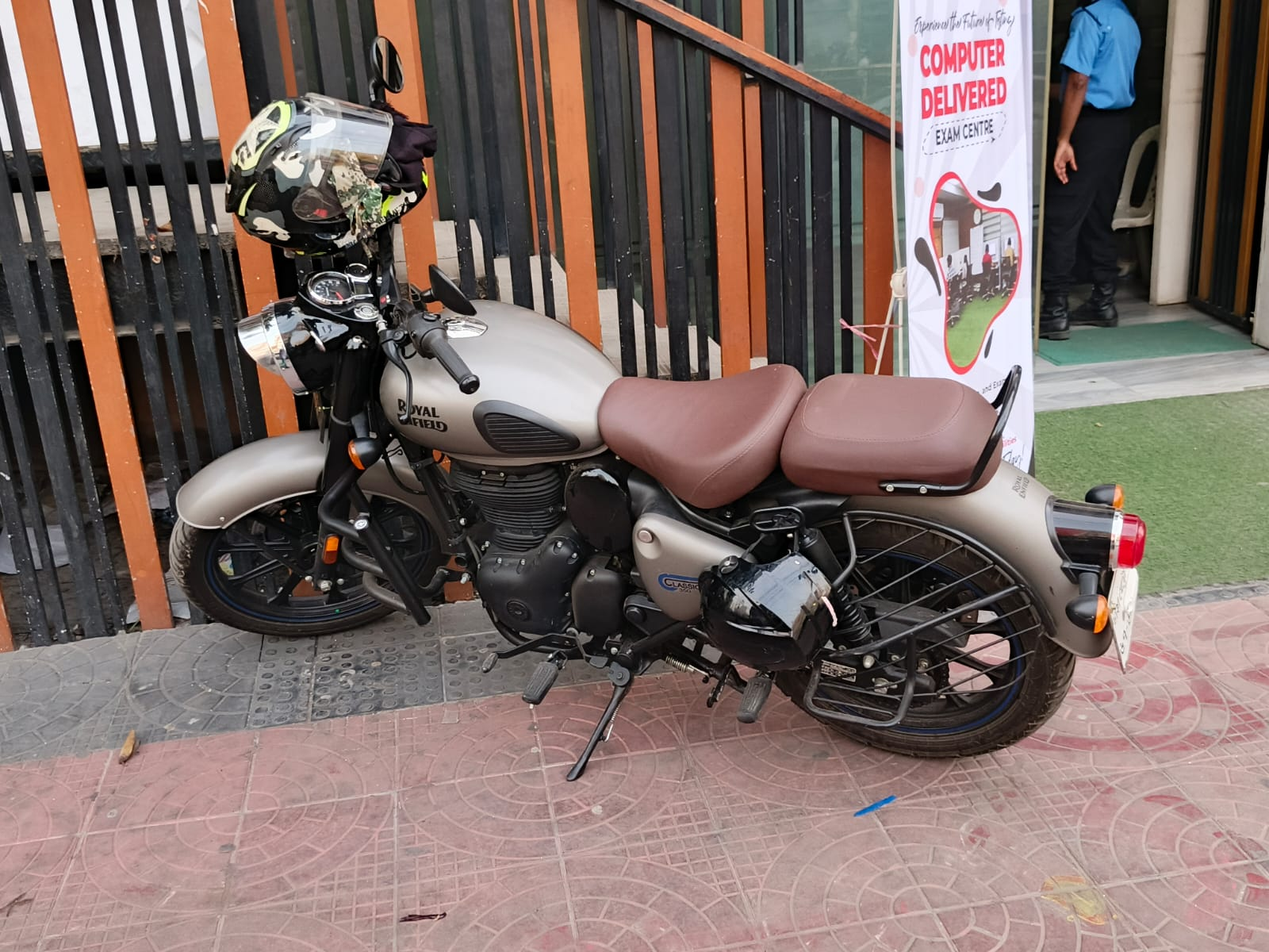Bikes: (153, 30, 1163, 826)
